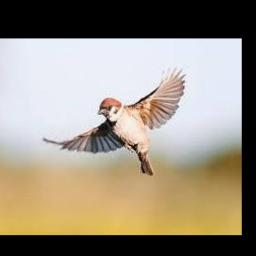Sparrow: (43, 65, 187, 175)
